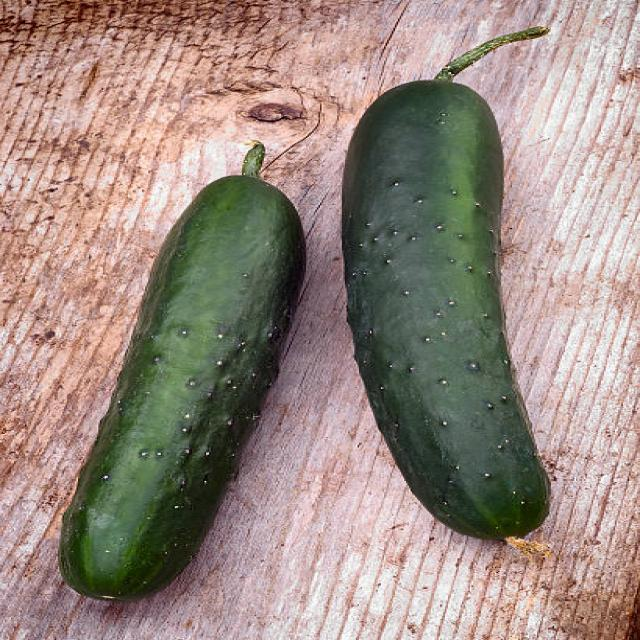cucumber: (57, 173, 307, 601), (344, 77, 552, 539)
